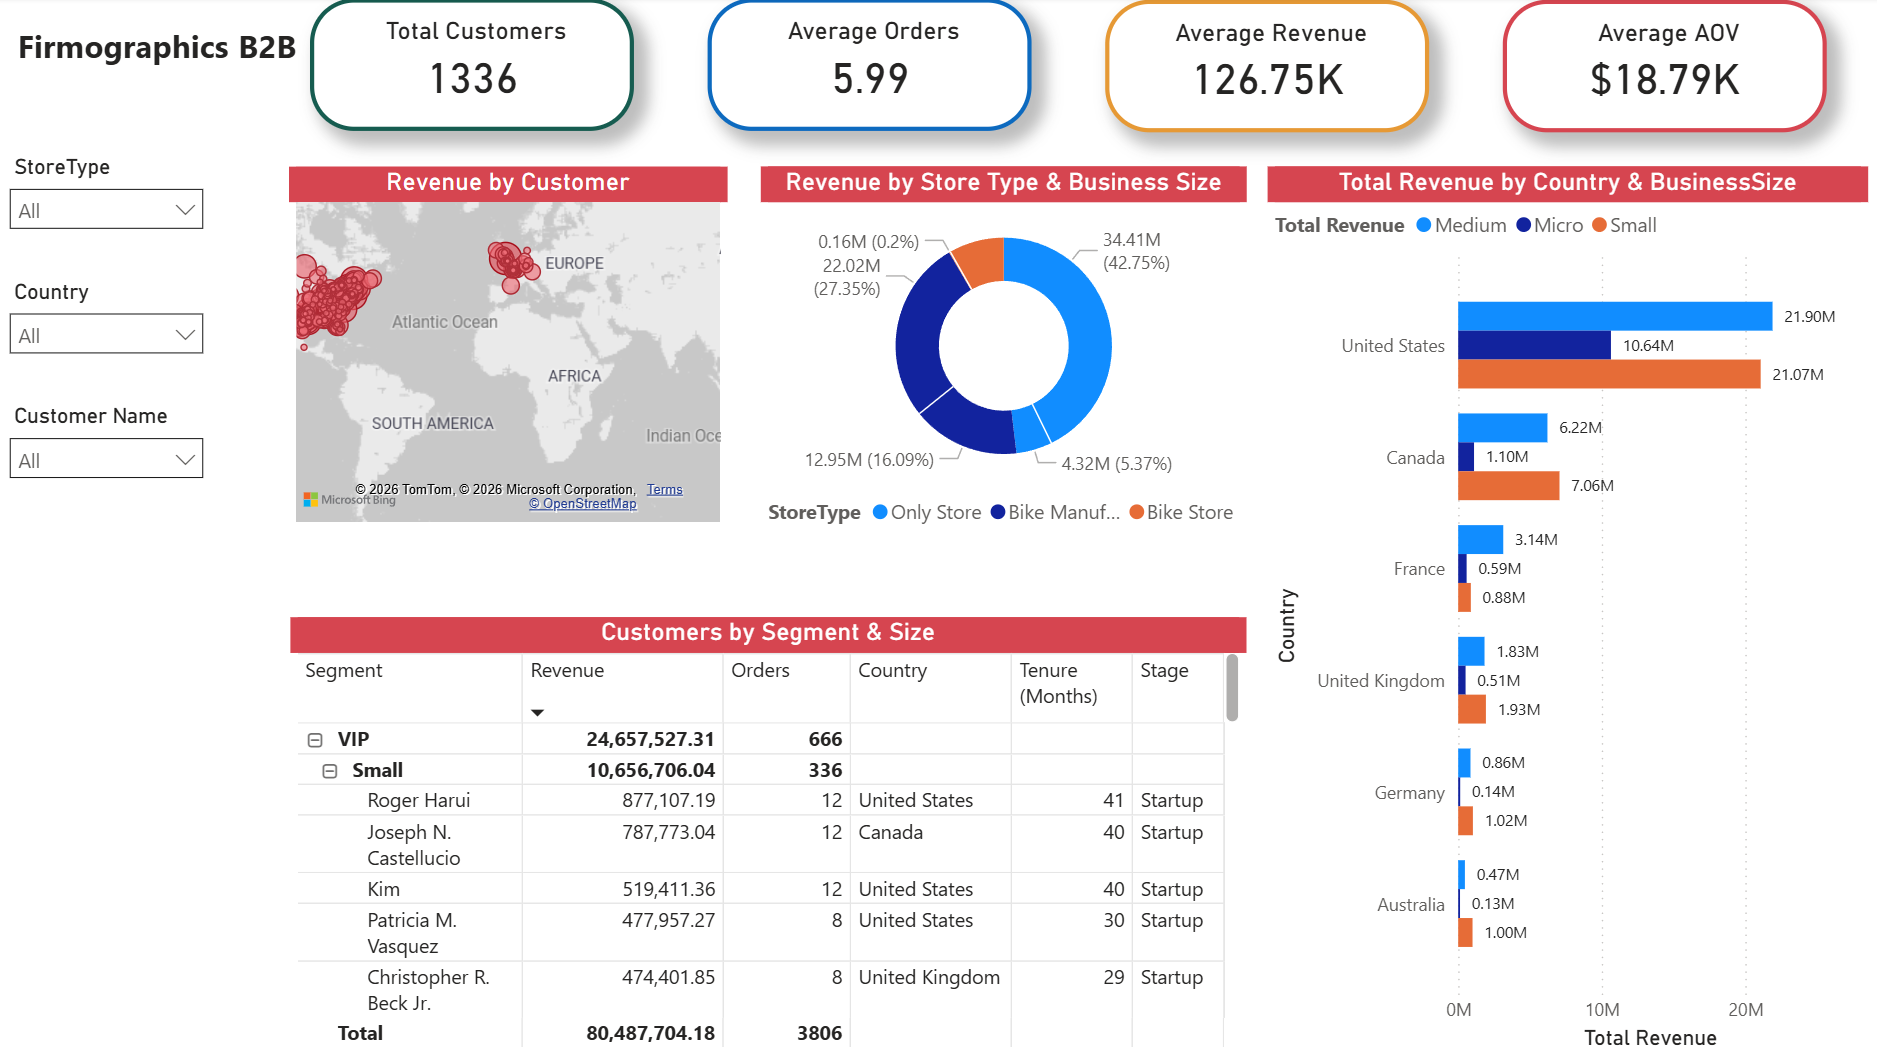

This screenshot's page, from the dashboard's own definition file:
{"tool":"powerbi","page":{"name":"Customer B2B Firmographics & Value Profiling","canvas":[1280,720],"ordinal":4},"visuals":[{"type":"map","title":"Revenue by Customer","fields":{"Size":["Sum(CustomerInfo_B2B.TotalRevenue)"],"Category":["CustomerInfo_B2B.FullAddress"]},"box":[200,115,297.5,246.2],"z":0},{"type":"donutChart","title":"Revenue by Store Type & Business Size","fields":{"Y":["Sum(CustomerInfo_B2B.TotalRevenue)"],"Category":["CustomerInfo_B2B.StoreType"],"Series":["CustomerInfo_B2B.BusinessSize"]},"box":[520,115,330,253.8],"z":1000},{"type":"clusteredBarChart","title":"Total Revenue by Country & BusinessSize","fields":{"Category":["CustomerInfo_B2B.Country"],"Y":["Sum(CustomerInfo_B2B.TotalRevenue)"],"Series":["CustomerInfo_B2B.BusinessSize"]},"box":[864.2,115,407.9,604.7],"z":2000},{"type":"textbox","box":[10.7,10.7,228,64],"z":3000},{"type":"slicer","fields":{"Values":["CustomerInfo_B2B.StoreType"]},"box":[-0.2,101.3,151.6,63],"z":4000},{"type":"slicer","fields":{"Values":["CustomerInfo_B2B.Country"]},"box":[-0.2,186.1,151.6,63],"z":5000},{"type":"slicer","fields":{"Values":["CustomerInfo_B2B.FullName"]},"box":[-0.2,270.9,151.6,63],"z":6000},{"type":"card","title":"Total Customers","fields":{"Values":["CountNonNull(CustomerInfo_B2B.CustomerID)"]},"box":[214.3,0.8,220,90],"z":7000},{"type":"card","title":"Average Orders","fields":{"Values":["Avg(CustomerInfo_B2B.TotalOrders)"]},"box":[484.3,0.8,220,90],"z":8000},{"type":"card","title":"Average Revenue","fields":{"Values":["Avg(CustomerInfo_B2B.TotalRevenue)"]},"box":[754.3,2.1,220,90],"z":9000},{"type":"card","title":"Average AOV","fields":{"Values":["Avg(CustomerInfo_B2B.AverageOrderValue)"]},"box":[1024.3,2.1,220,90],"z":10000},{"type":"pivotTable","title":"Customers by Segment & Size","fields":{"Rows":["CustomerRFM_B2B.Segment","CustomerInfo_B2B.BusinessSize","CustomerInfo_B2B.FullName"],"Values":["Sum(CustomerInfo_B2B.TotalRevenue)","Sum(CustomerInfo_B2B.TotalOrders)","Min(CustomerInfo_B2B.Country)","Sum(CustomerInfo_B2B.CustomerTenure_Months)","Min(CustomerInfo_B2B.BusinessStage)"]},"box":[200.5,421.6,649.2,297],"z":12000}]}

Visuals, with their boxes in screenshot pixels (x1, y1, x2, y2), scaled from the page's 1280x720 canvas onto the 1877x1054 screenshot:
"Revenue by Customer" map: (left=293, top=168, right=730, bottom=529)
"Revenue by Store Type & Business Size" donutChart: (left=763, top=168, right=1246, bottom=540)
"Total Revenue by Country & BusinessSize" clusteredBarChart: (left=1267, top=168, right=1865, bottom=1053)
textbox: (left=16, top=16, right=350, bottom=109)
slicer - CustomerInfo_B2B.StoreType: (left=0, top=148, right=222, bottom=241)
slicer - CustomerInfo_B2B.Country: (left=0, top=272, right=222, bottom=365)
slicer - CustomerInfo_B2B.FullName: (left=0, top=397, right=222, bottom=489)
"Total Customers" card: (left=314, top=1, right=637, bottom=133)
"Average Orders" card: (left=710, top=1, right=1033, bottom=133)
"Average Revenue" card: (left=1106, top=3, right=1429, bottom=135)
"Average AOV" card: (left=1502, top=3, right=1825, bottom=135)
"Customers by Segment & Size" pivotTable: (left=294, top=617, right=1246, bottom=1052)
